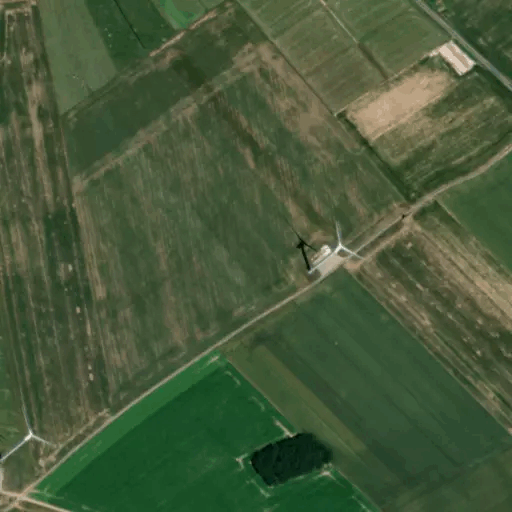wt: (278, 211, 372, 289)
